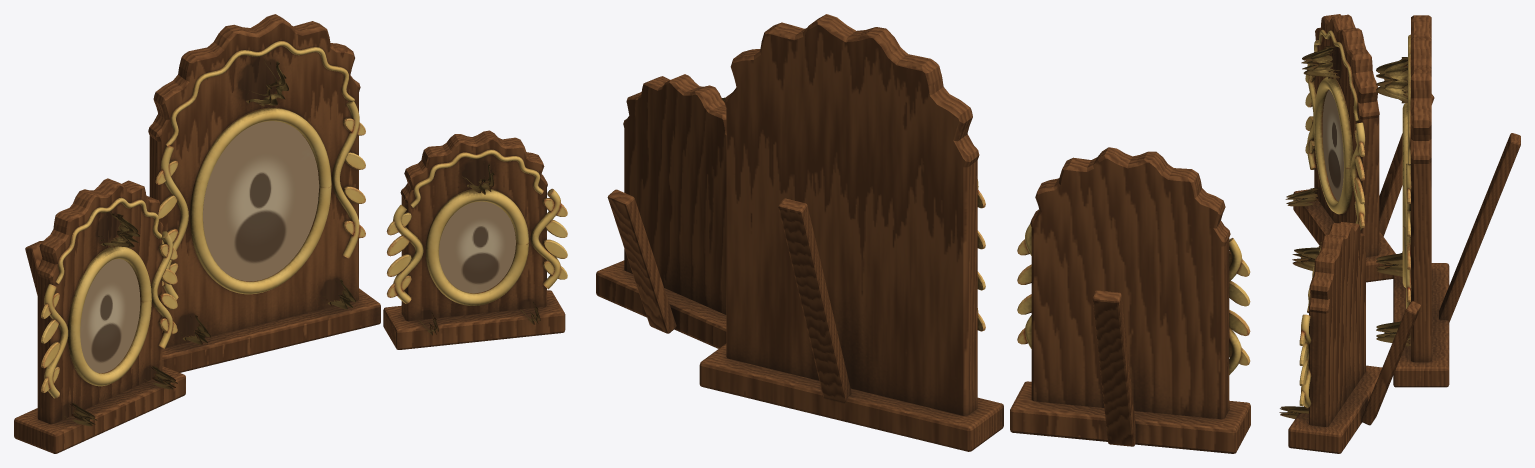
The model's file is w6_ofrenda_photo_stand_set.glb.
The picture shows the model from 3 angles, left to right: view 1: azimuth 30°, elevation 25°; view 2: azimuth 150°, elevation 25°; view 3: azimuth 270°, elevation 25°; orthographic projection. The views are drawn at different scales.
Parts seen in each view (by area): view 1: w6_ofrenda_photo_stand_set; view 2: w6_ofrenda_photo_stand_set; view 3: w6_ofrenda_photo_stand_set.
Part boxes in pixels (x1,y1,x2,y2): w6_ofrenda_photo_stand_set: (14,14,567,453); w6_ofrenda_photo_stand_set: (596,14,1250,453); w6_ofrenda_photo_stand_set: (1279,14,1520,453).
Size of the model in its own units: 0.6375 by 0.363 by 0.2596.
1 material, 1 textured.
